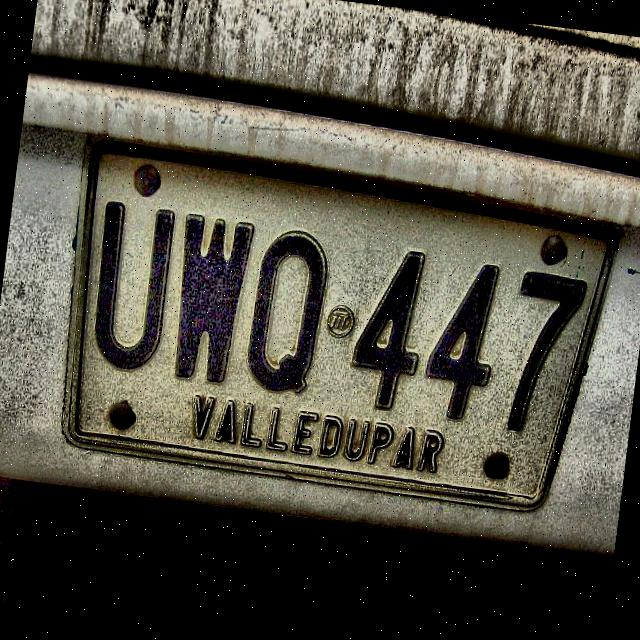4: (417, 251, 511, 427), (344, 242, 434, 418)
7: (484, 267, 594, 444)
Q: (238, 221, 338, 403)
U: (80, 196, 182, 377)
W: (162, 206, 258, 395)
